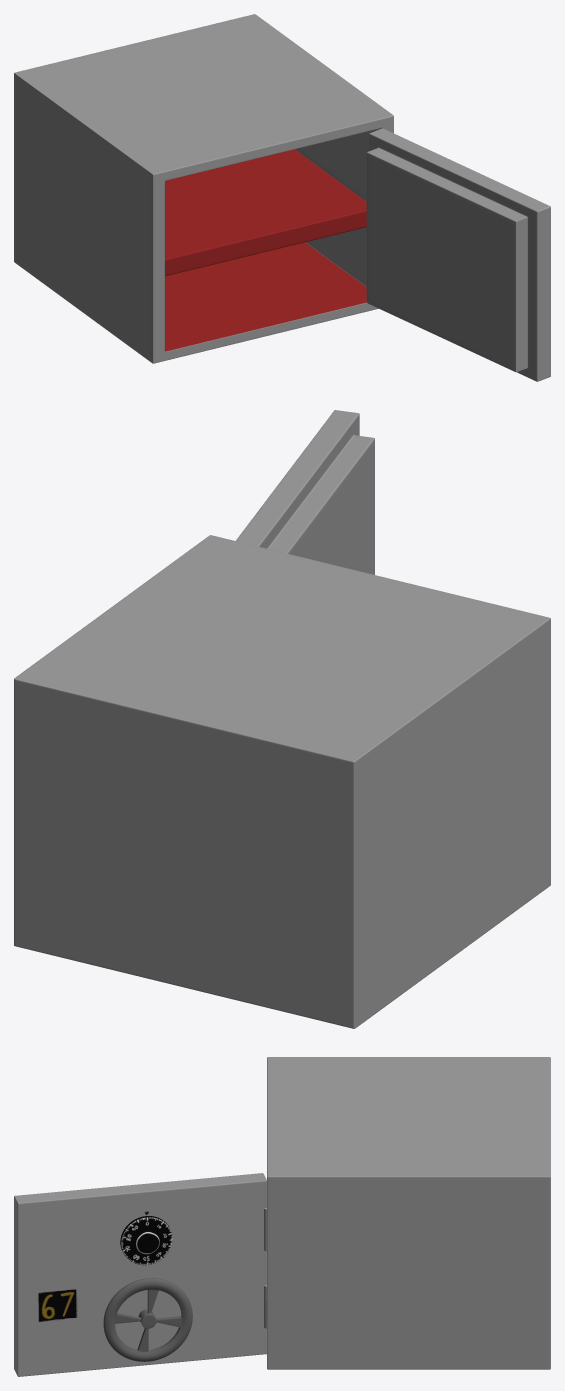
The model's file is Safe_Open.fbx.
3 renders of one model, top to bottom at view 1: azimuth 30°, elevation 25°; view 2: azimuth 150°, elevation 25°; view 3: azimuth 270°, elevation 25°, orthographic. The views are drawn at different scales.
Parts seen in each view (by area): view 1: Safe_Case, Safe_Door; view 2: Safe_Case, Safe_Door; view 3: Safe_Case, Safe_Door.
Boxes of the visible parts, x1=… form: Safe_Case: x1=14, y1=14, x2=393, y2=363; Safe_Door: x1=366, y1=128, x2=550, y2=381; Safe_Case: x1=14, y1=535, x2=550, y2=1028; Safe_Door: x1=236, y1=410, x2=374, y2=574; Safe_Case: x1=267, y1=1057, x2=550, y2=1369; Safe_Door: x1=14, y1=1173, x2=266, y2=1376.
Size of the model in its own units: 1.14 by 0.75 by 1.89.
Materials: 2 (2 with a texture image).
